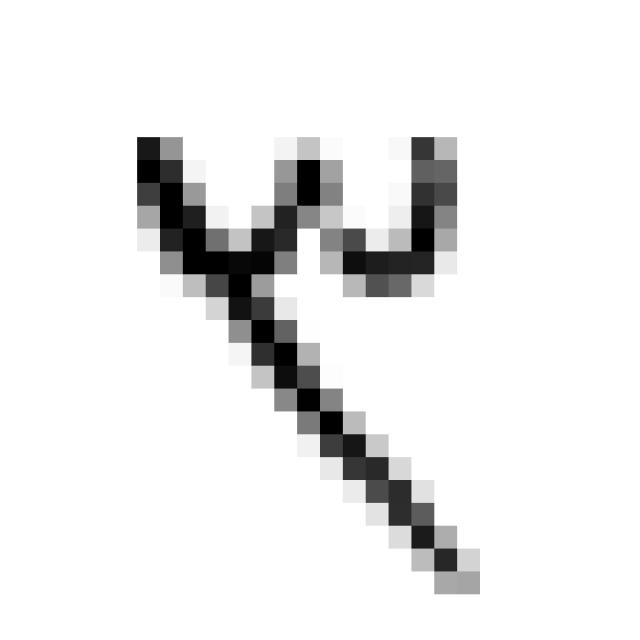3 -three-: (112, 105, 510, 619)
